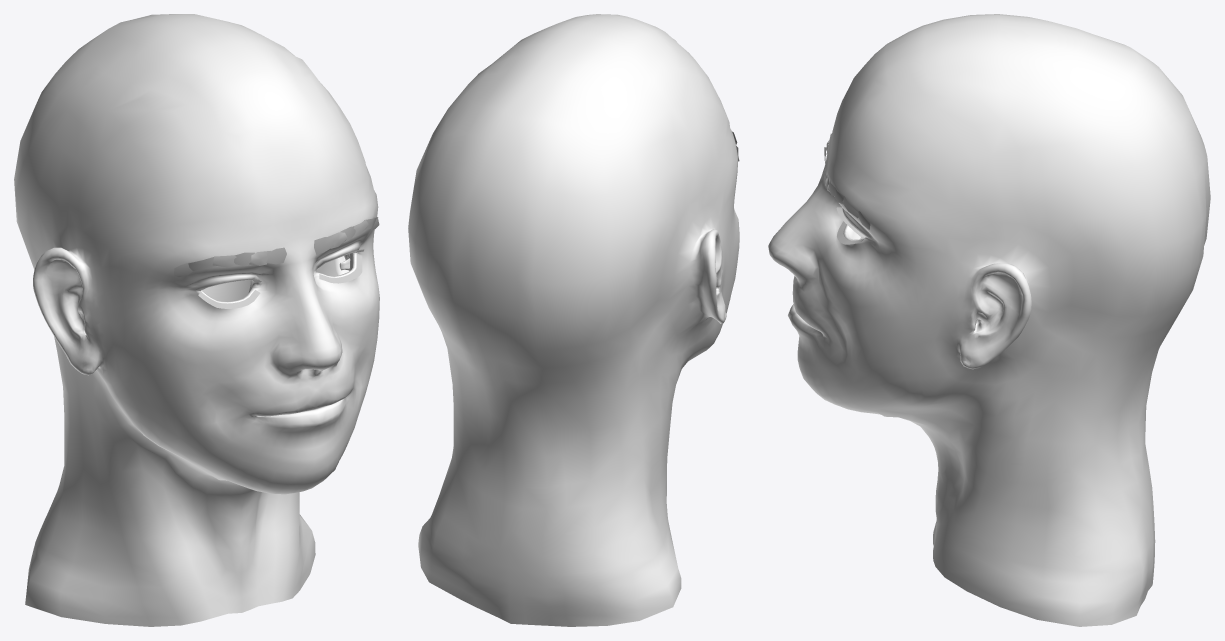
File: mouthRollUpper.obj
3 renders of one model, left to right at view 1: azimuth 30°, elevation 25°; view 2: azimuth 150°, elevation 25°; view 3: azimuth 270°, elevation 25°, orthographic. The views are drawn at different scales.
Parts seen in each view (by area): view 1: FaceMesh_Plane.003; view 2: FaceMesh_Plane.003; view 3: FaceMesh_Plane.003.
Part boxes in pixels (bbox=[...]): FaceMesh_Plane.003: bbox=[14, 14, 379, 626]; FaceMesh_Plane.003: bbox=[408, 14, 739, 626]; FaceMesh_Plane.003: bbox=[768, 14, 1210, 626].
Size of the model in its own units: 1.54 by 2.71 by 1.94.
5 materials, 1 textured.
